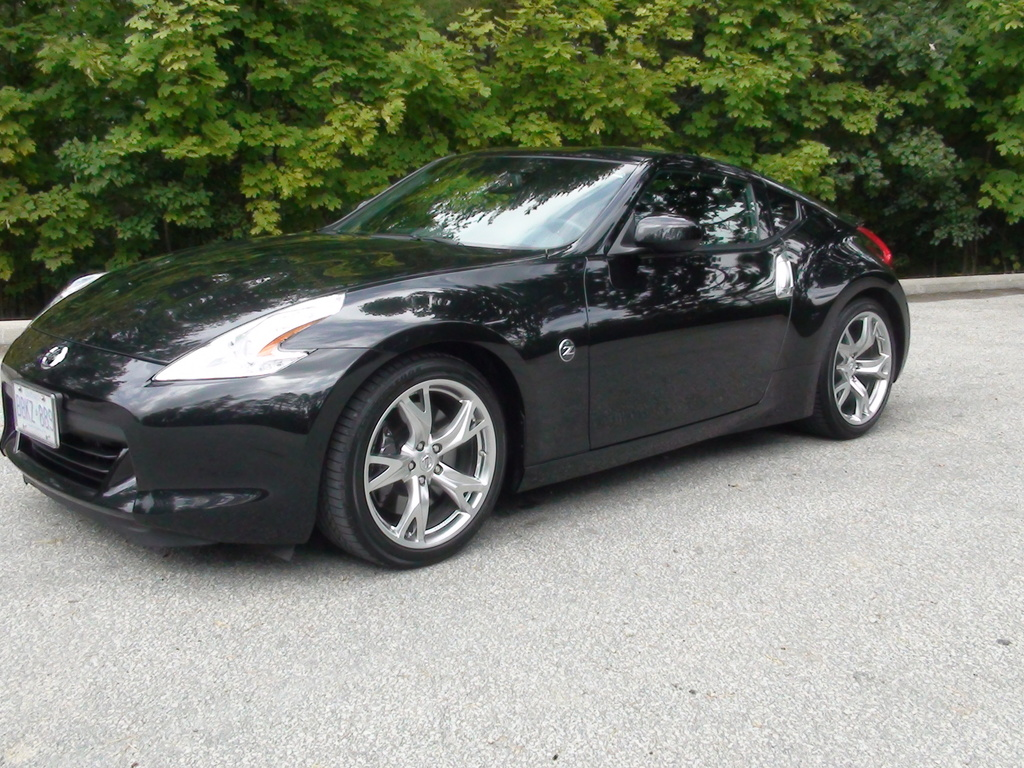Tree: (0, 0, 1024, 297)
